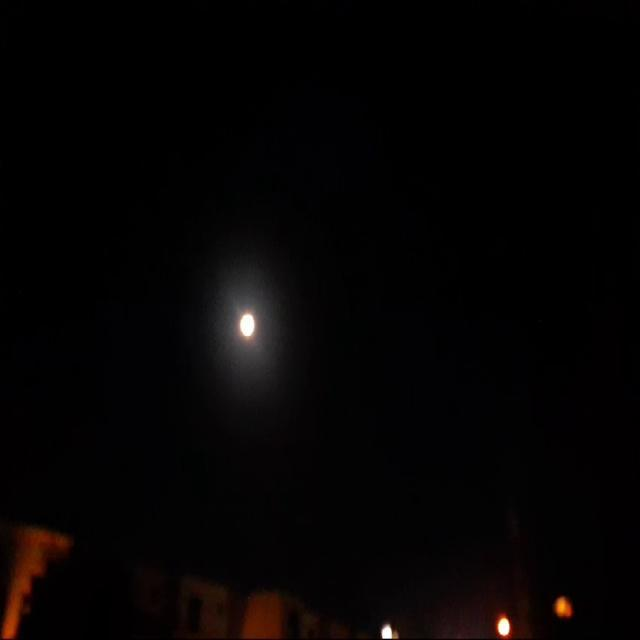moon: (224, 308, 247, 348)
